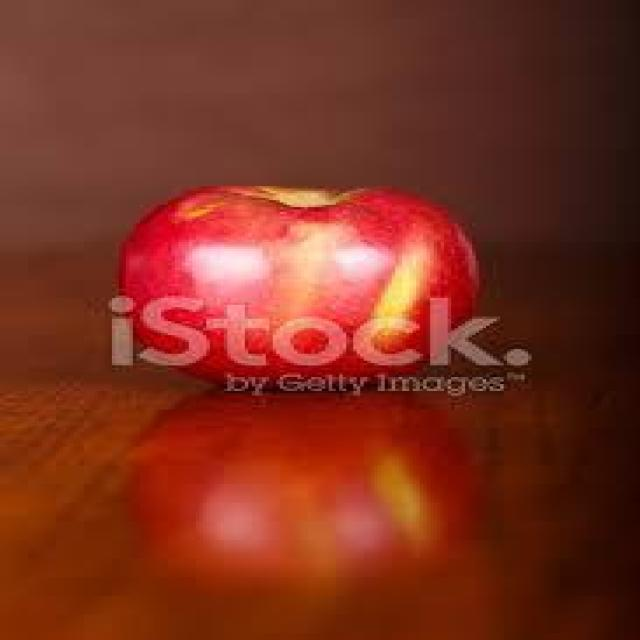apple: (123, 191, 472, 400)
